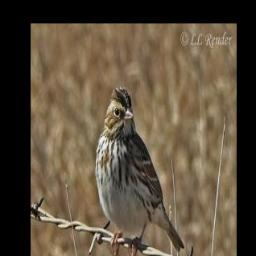Sparrow: (92, 85, 185, 256)
